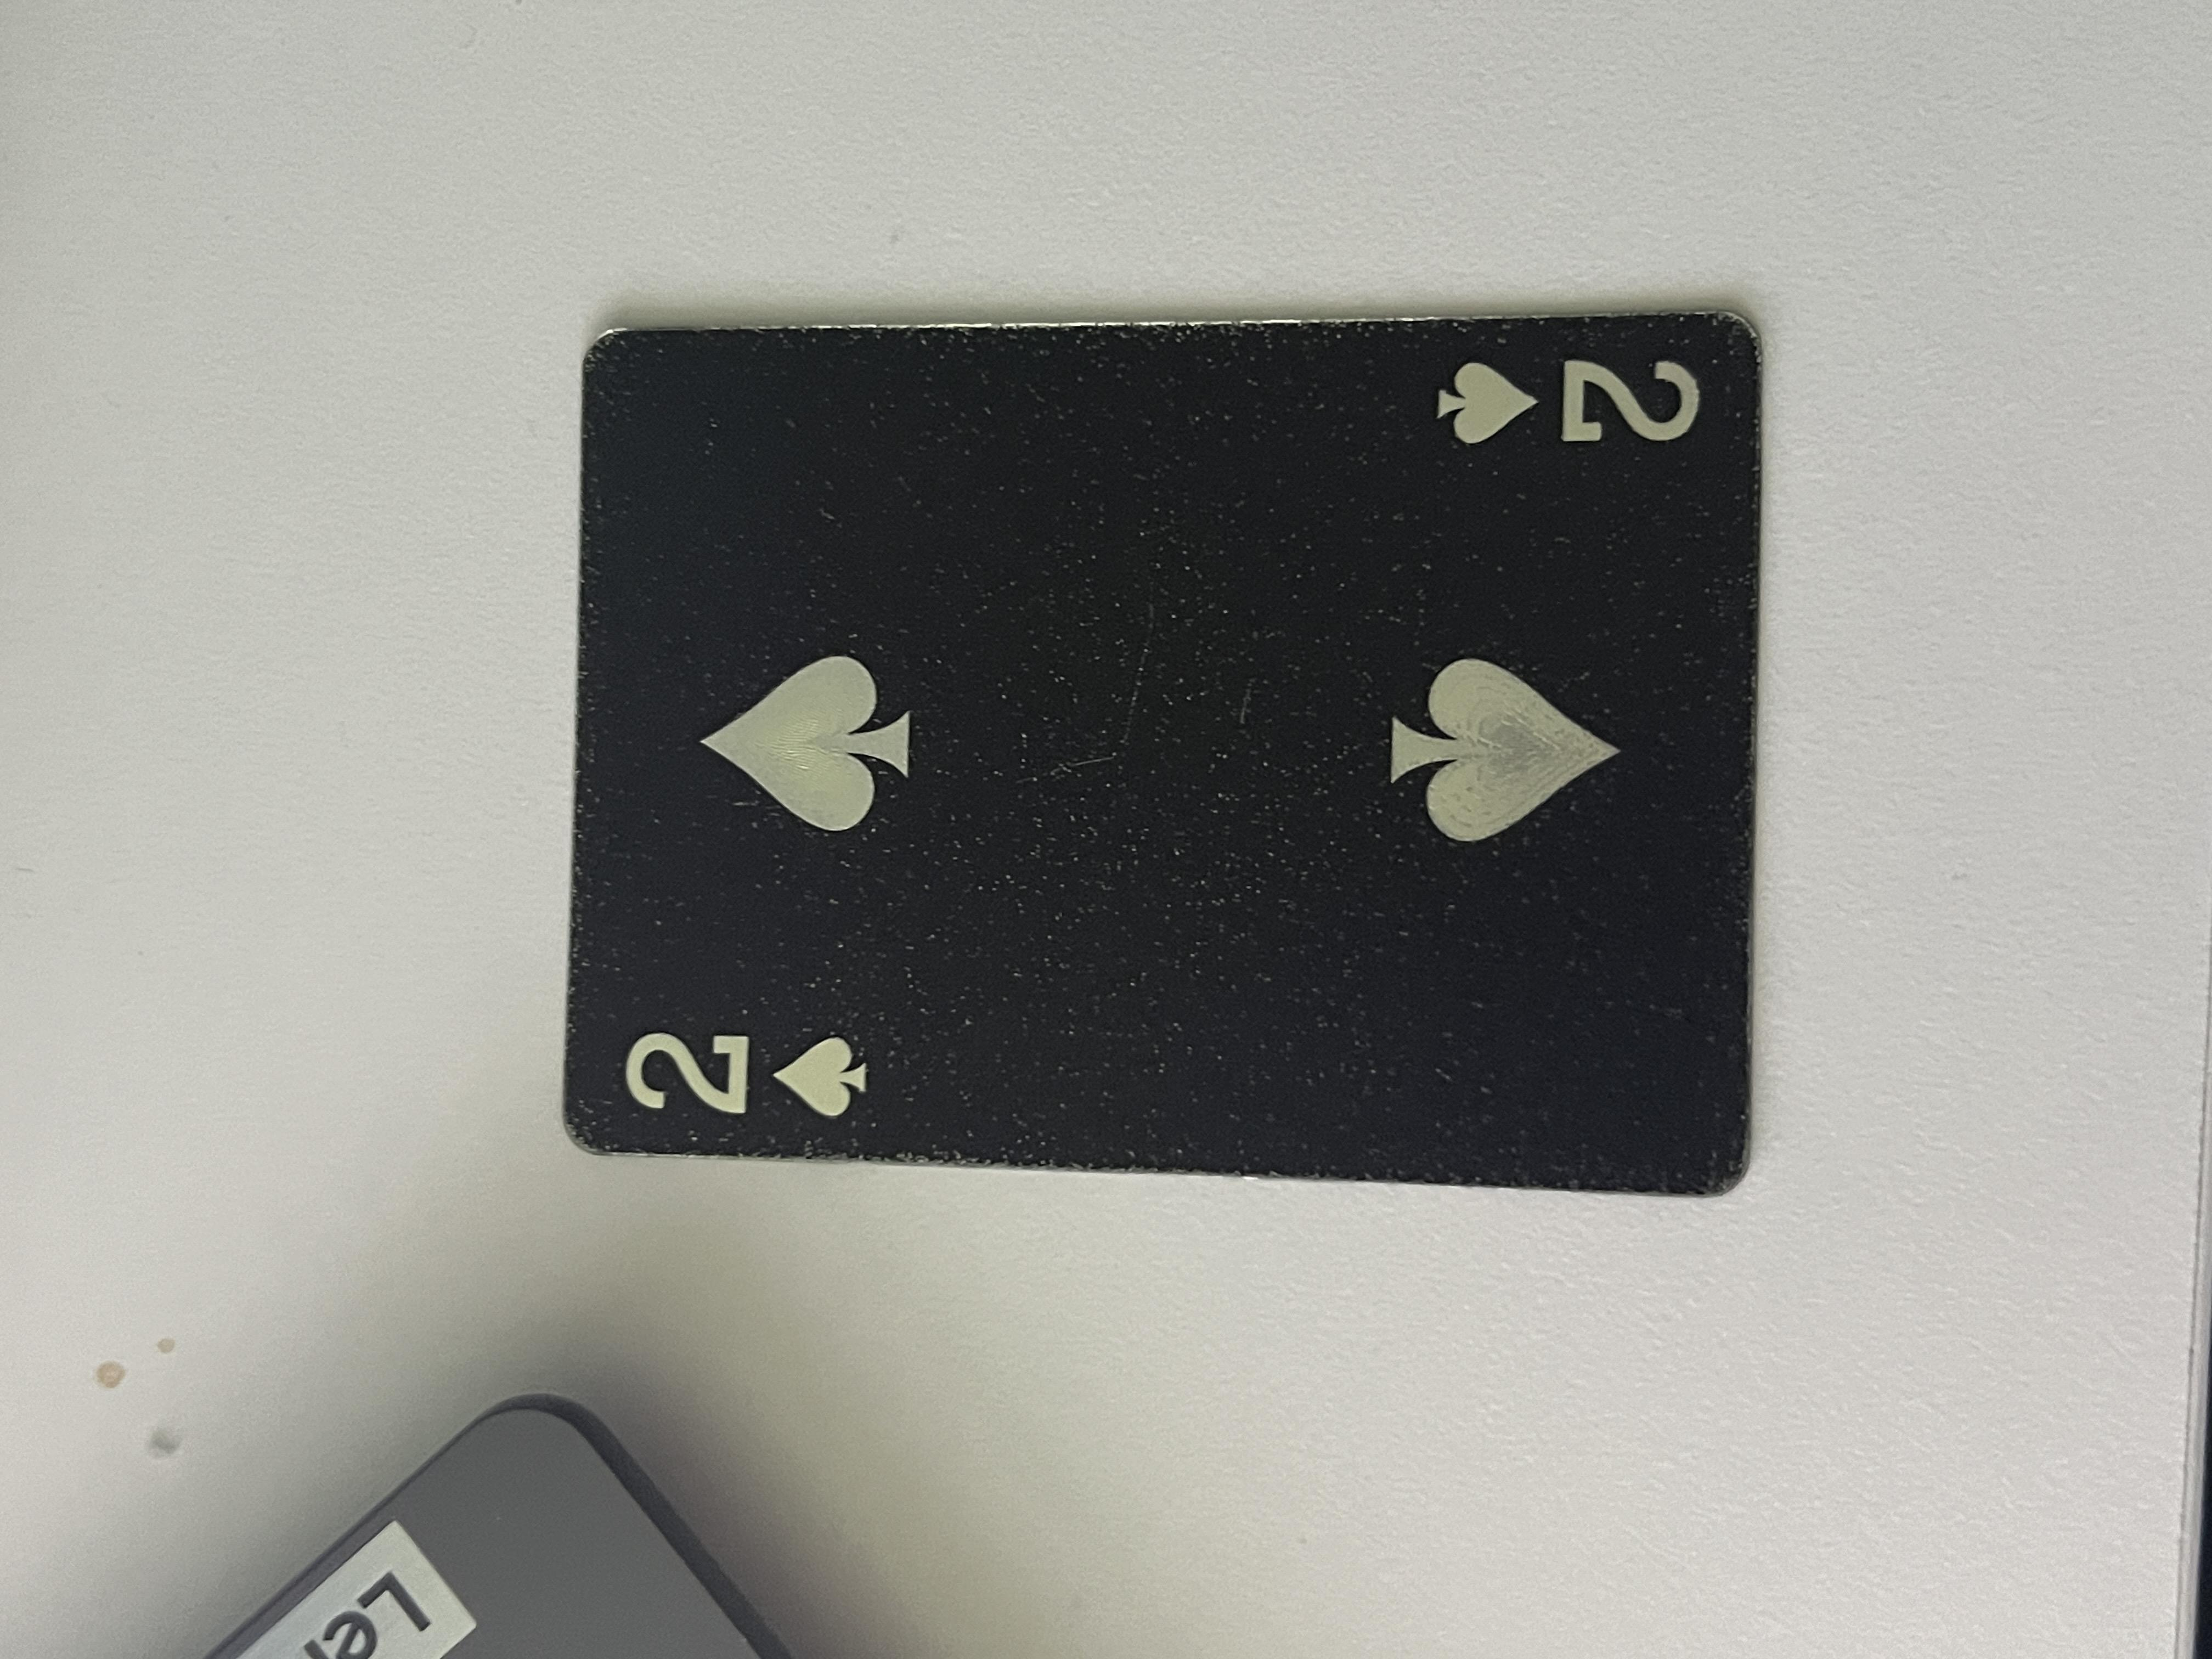2S: (1595, 1073, 1763, 1290), (705, 471, 885, 671)
